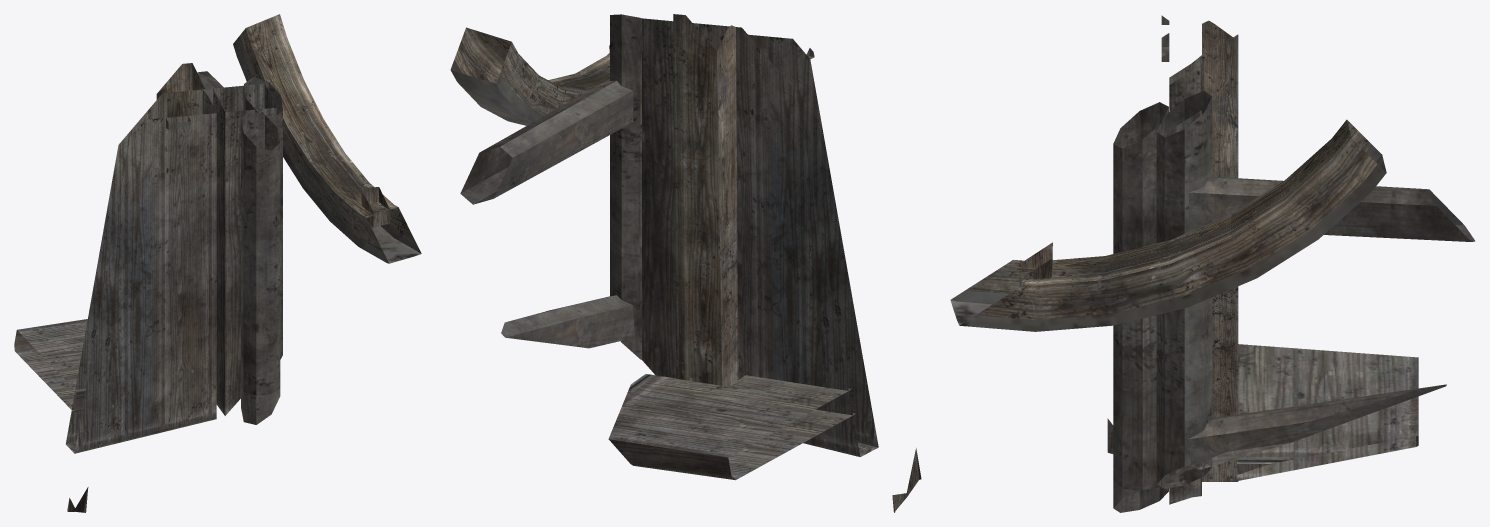
File: Wagon3_16.fbx
3 views of the same model, side by side, from view 1: azimuth 30°, elevation 25°; view 2: azimuth 150°, elevation 25°; view 3: azimuth 270°, elevation 25° (orthographic). The views are drawn at different scales.
Visible parts, largest first — view 1: SM_Wagon03_DM.016; view 2: SM_Wagon03_DM.016; view 3: SM_Wagon03_DM.016.
Boxes of the visible parts, x1,y1,x2,y2 form: SM_Wagon03_DM.016: (14, 14, 421, 512); SM_Wagon03_DM.016: (450, 14, 921, 512); SM_Wagon03_DM.016: (950, 15, 1475, 512).
Size of the model in its own units: 6359 by 8398 by 7369.
